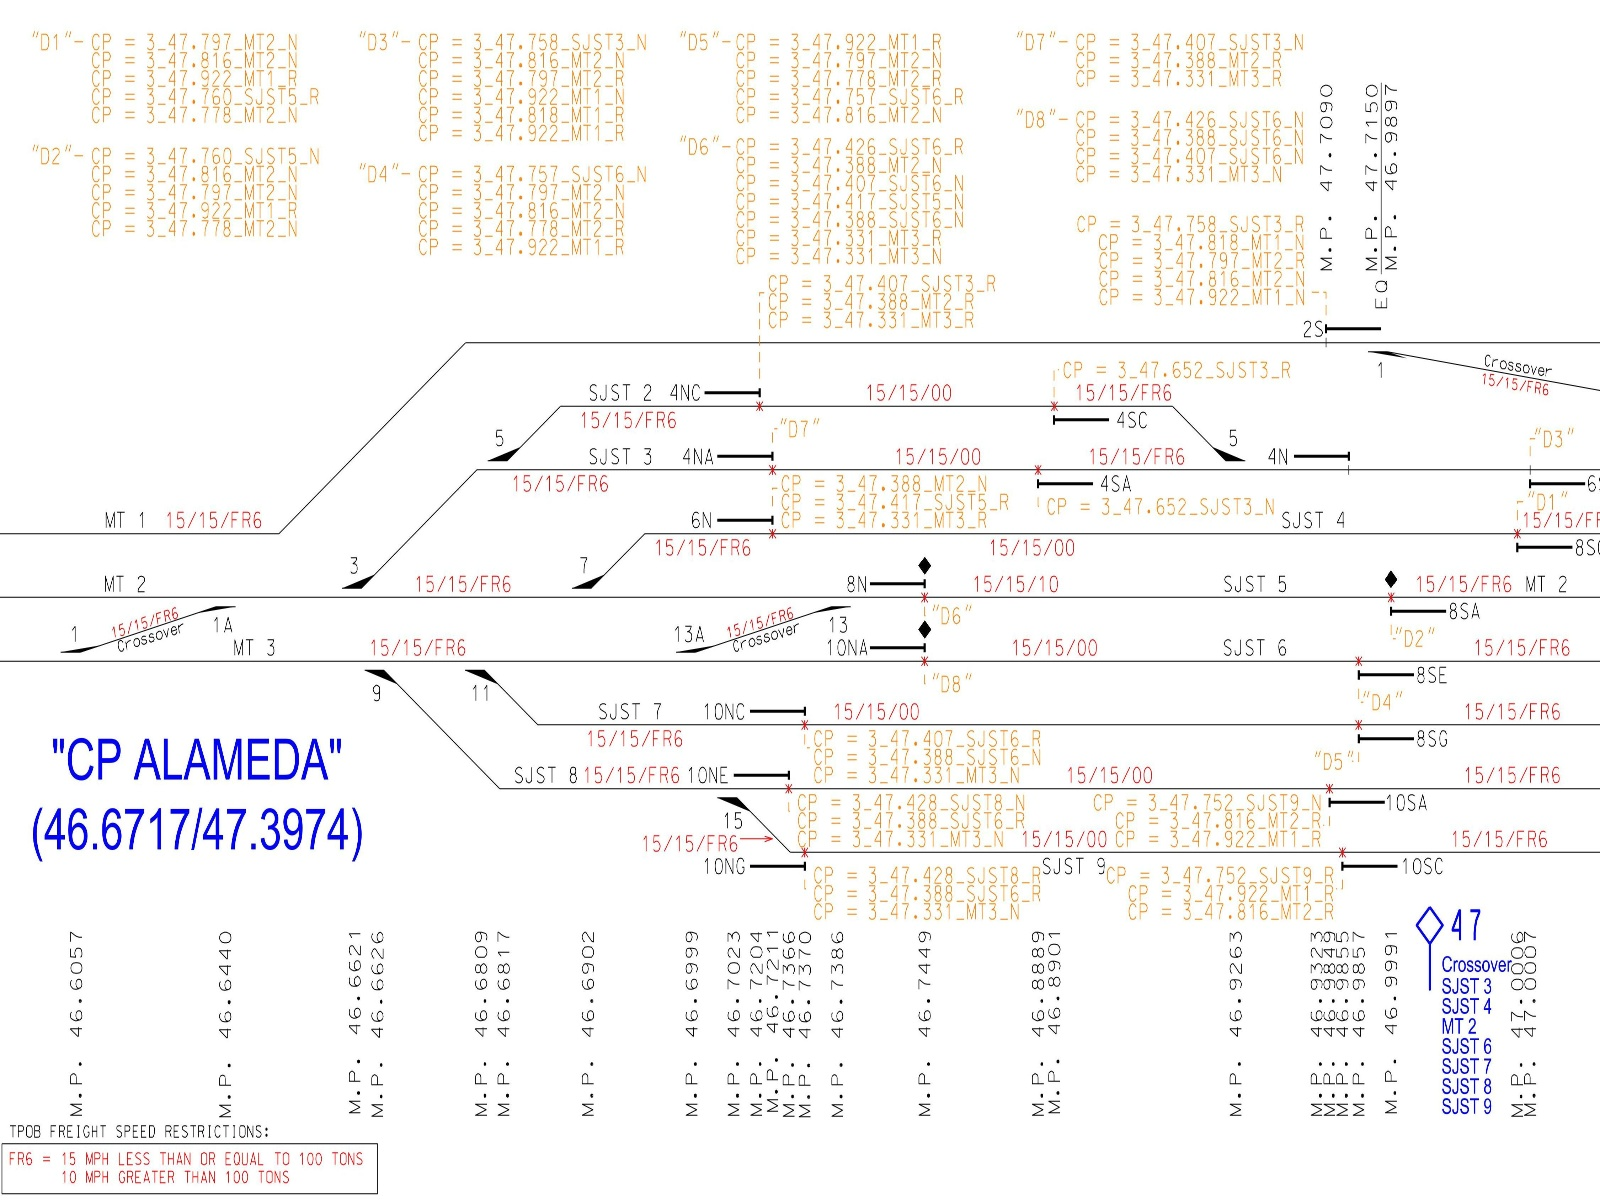leftSignal: (661, 371, 774, 411), (821, 637, 934, 677), (700, 855, 813, 895), (675, 439, 786, 479), (700, 696, 811, 736), (684, 755, 795, 795), (1290, 310, 1401, 350), (1257, 437, 1368, 478), (682, 500, 792, 539), (837, 574, 947, 613)
milepost: (45, 911, 113, 1121), (194, 915, 262, 1124), (328, 918, 396, 1127), (553, 919, 621, 1128), (646, 920, 714, 1129), (819, 923, 887, 1132), (894, 921, 963, 1131), (1013, 919, 1081, 1128), (1204, 921, 1272, 1131), (459, 916, 527, 1124), (718, 921, 786, 1129), (1314, 84, 1361, 291)
rightSignal: (1335, 850, 1455, 889), (1377, 591, 1488, 632), (1344, 715, 1455, 755), (1041, 397, 1151, 437), (1489, 524, 1600, 565), (1349, 655, 1460, 695), (1320, 782, 1431, 821), (1031, 461, 1141, 500), (1489, 466, 1600, 505)
switch: (329, 545, 384, 601), (474, 410, 529, 466), (193, 590, 249, 644), (556, 538, 610, 595), (704, 787, 763, 838), (55, 614, 108, 667), (666, 610, 721, 659), (351, 666, 408, 710), (457, 666, 513, 710)
